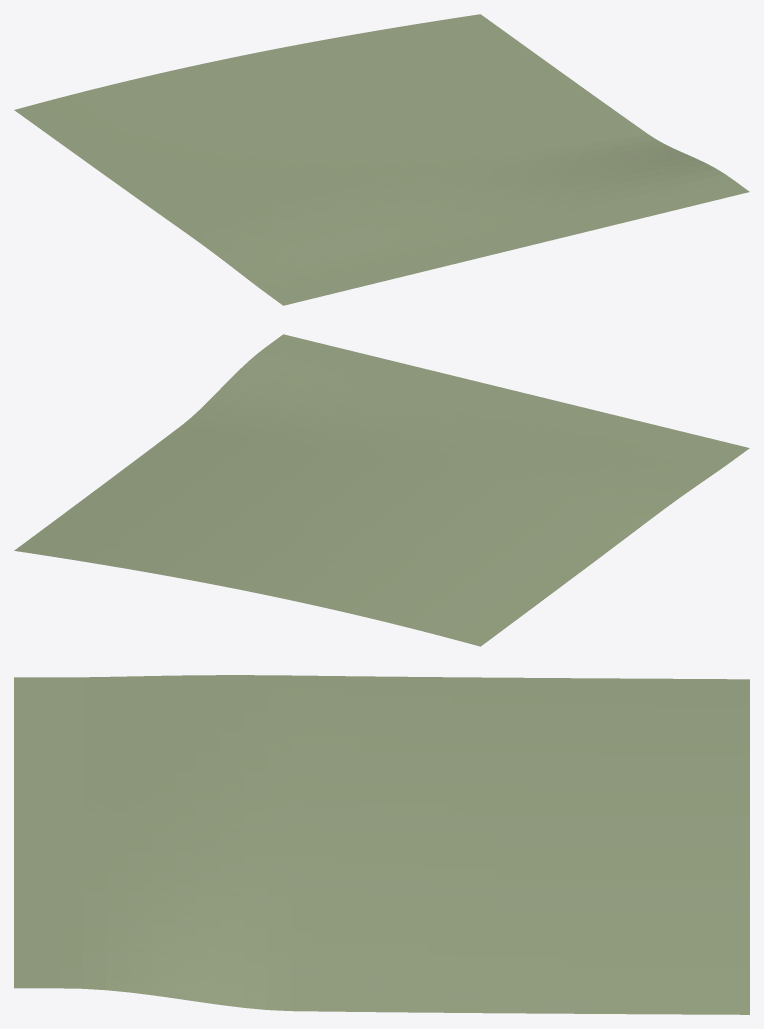
Rendered from valley-2-11.glb.
3 views of the same model, one above another, from view 1: azimuth 30°, elevation 25°; view 2: azimuth 150°, elevation 25°; view 3: azimuth 270°, elevation 25° (orthographic). The views are drawn at different scales.
Parts seen in each view (by area): view 1: valley-2-11; view 2: valley-2-11; view 3: valley-2-11.
Boxes of the visible parts, box(x1,y1,x2,y2) form: valley-2-11: box(14, 14, 749, 305); valley-2-11: box(14, 334, 749, 646); valley-2-11: box(14, 675, 749, 1014).
Bounding box in the file's own units: 256 × 11.74 × 256.
